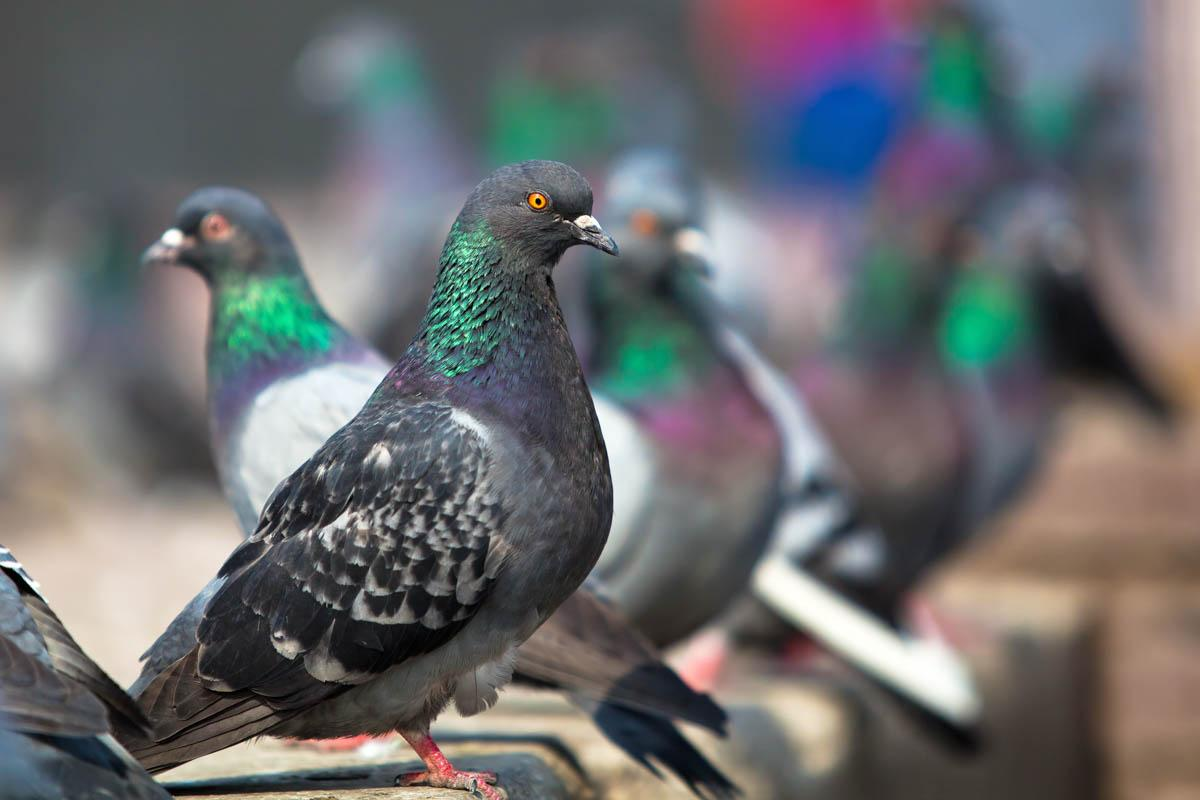Flying Rat: (273, 170, 586, 786), (596, 186, 777, 662), (145, 182, 349, 516)
